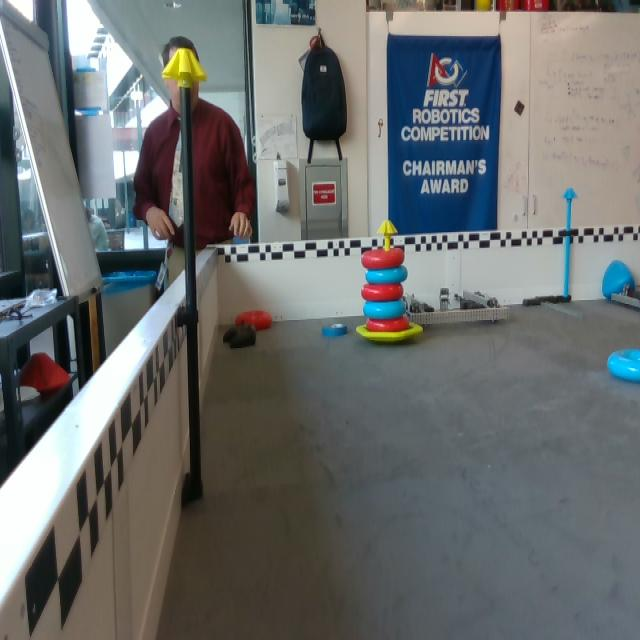Blue-Ring: (606, 349, 639, 381), (362, 299, 406, 319), (365, 265, 407, 285), (319, 324, 350, 341)
Mobile-Goal: (353, 217, 424, 343)
Red-Ring: (362, 248, 404, 270), (235, 310, 273, 331), (361, 283, 404, 301), (366, 315, 410, 332)
Yellow-Stake-Head: (163, 48, 207, 84), (377, 220, 398, 236)
zblue-Stake-Head: (562, 188, 578, 200)
